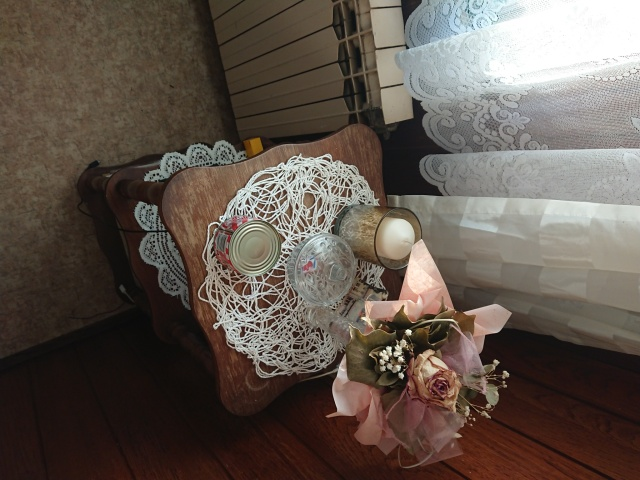Podravka Luncheon Meat 150g: (211, 212, 284, 279)
